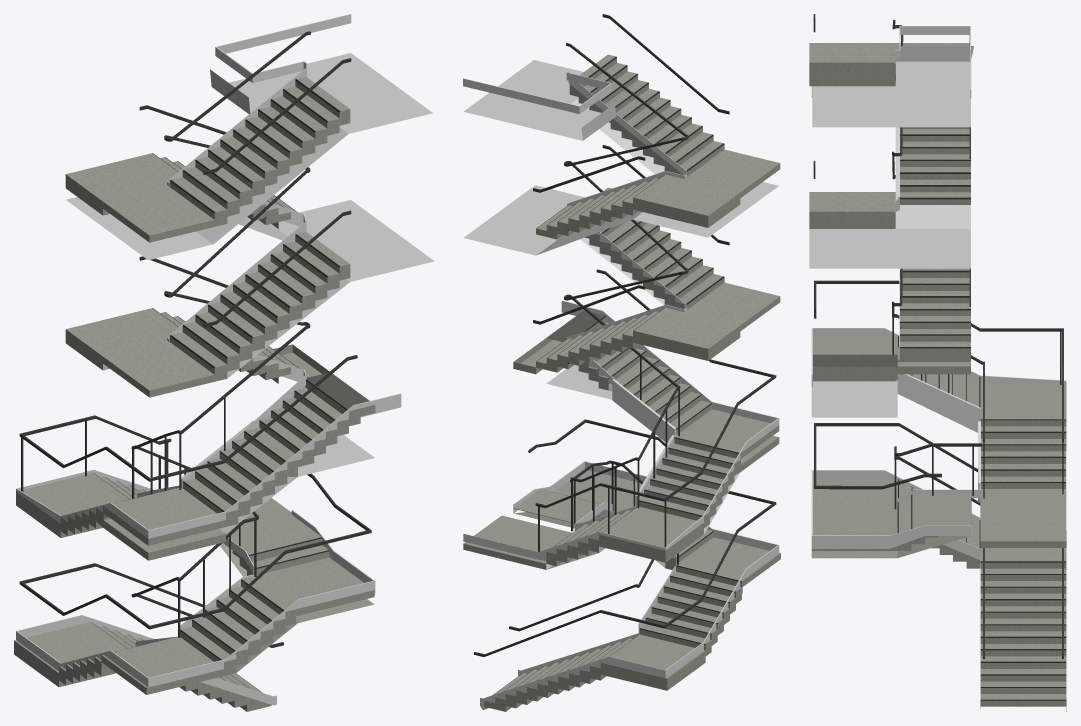
File: all_stair_3_sized.glb
The picture shows the model from 3 angles, left to right: view 1: azimuth 30°, elevation 25°; view 2: azimuth 150°, elevation 25°; view 3: azimuth 270°, elevation 25°; orthographic projection. The views are drawn at different scales.
Visible parts, largest first — view 1: Cube_009, Cube_027, Cube_118, Cube_028; view 2: Cube_009, Cube_027, Cube_118, Cube_028; view 3: Cube_027, Cube_009, Cube_118, Cube_028.
Part boxes in pixels (x1,y1,x2,y2): Cube_009: (16,14,434,538); Cube_027: (14,344,375,711); Cube_118: (65,76,350,242); Cube_028: (16,473,375,705); Cube_009: (463,14,780,560); Cube_027: (463,310,780,711); Cube_118: (536,54,780,239); Cube_028: (474,419,779,709); Cube_027: (811,336,1066,706); Cube_009: (809,14,1066,538); Cube_118: (809,43,970,204); Cube_028: (811,423,1066,711).
Bounding box in the file's own units: 6.67 × 15.92 × 5.38.
6 materials, 2 textured.
